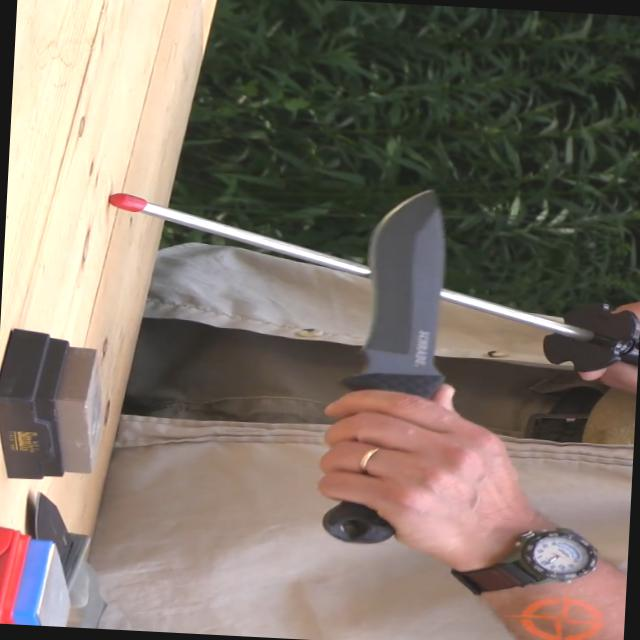knife: (300, 174, 497, 556)
